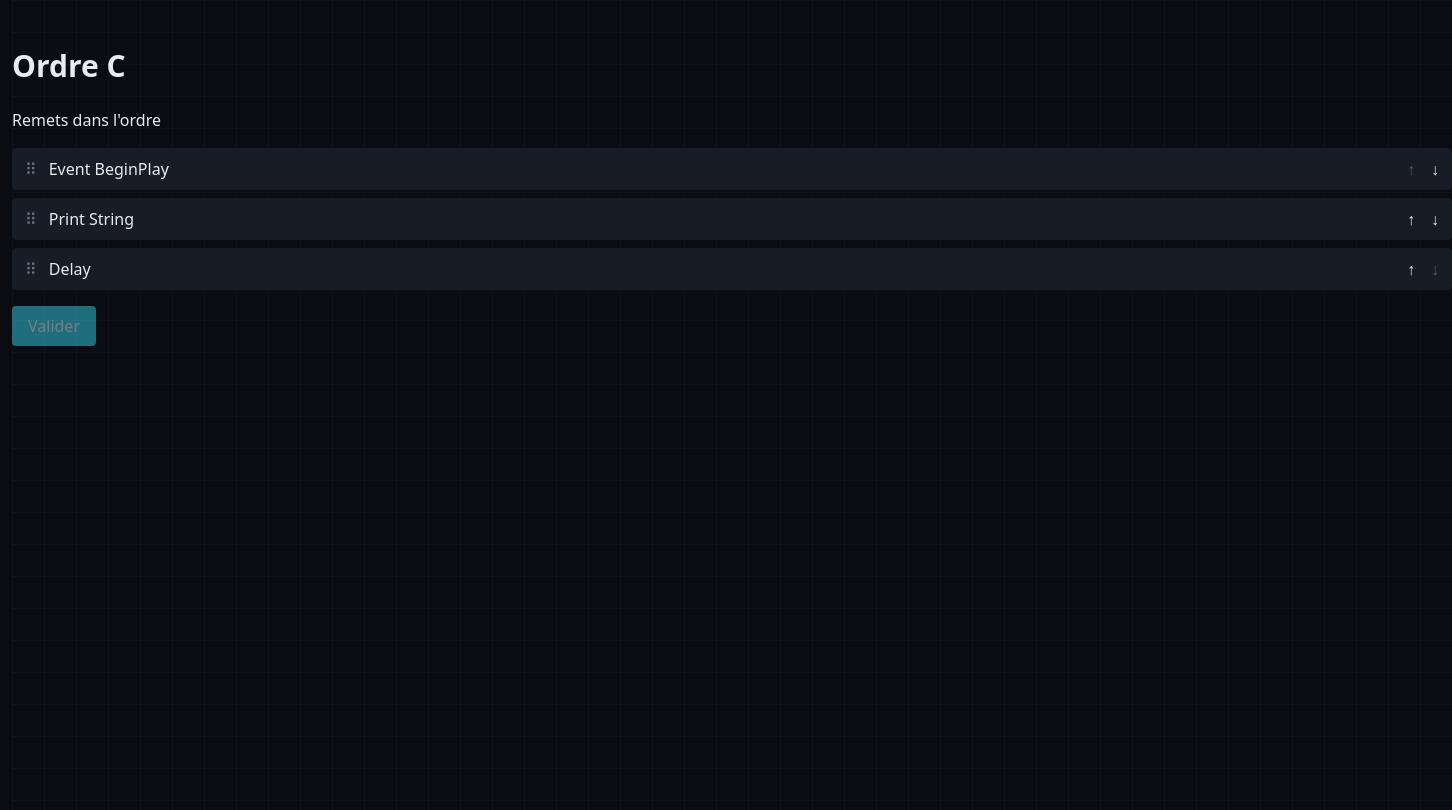
Test: ExerciseWorkspace › type C : réordonner puis envoyer produit le bon corps
Click the button named "Descendre Event BeginPlay" at (1435, 169), box [1427, 157, 1443, 181]
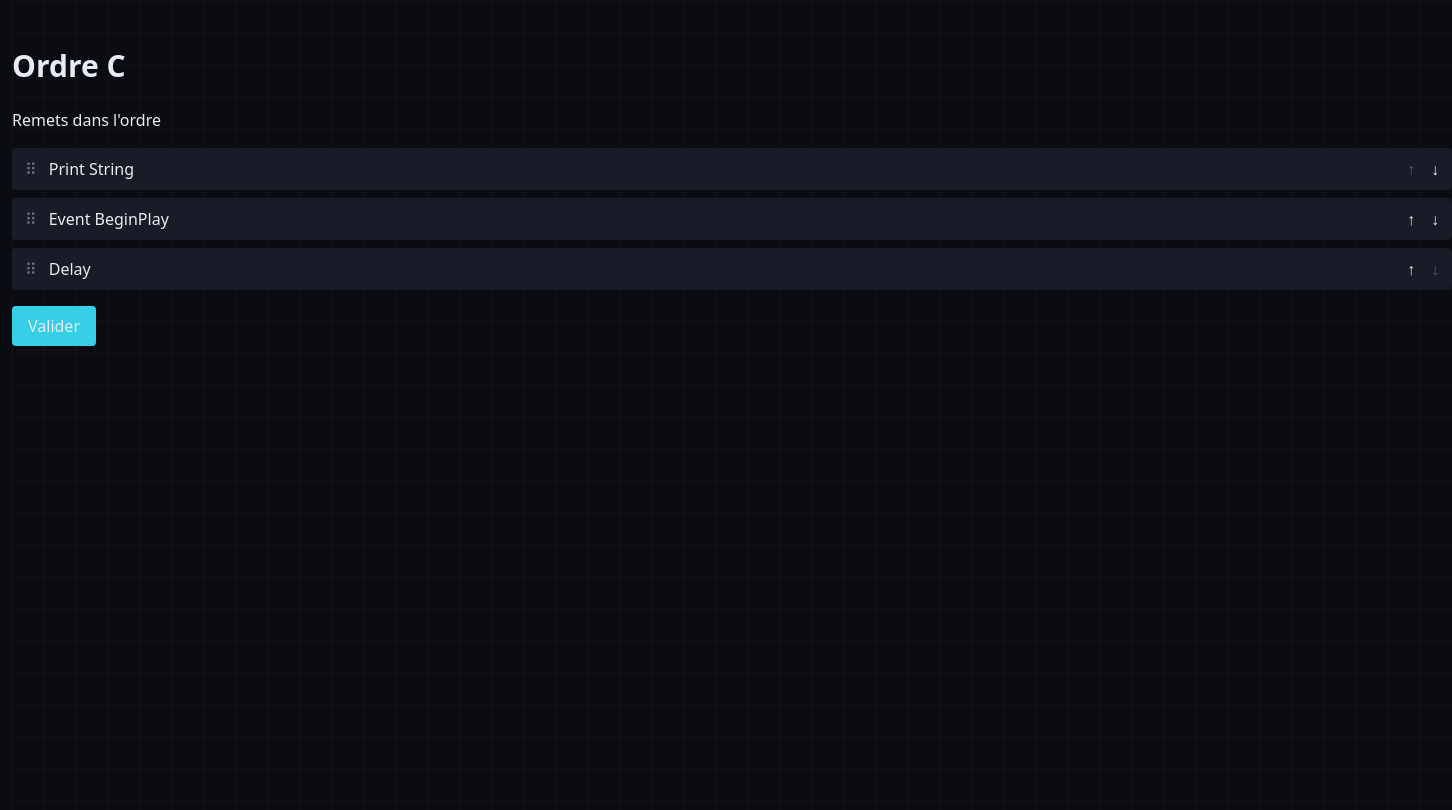
Click the button "Valider" at (54, 326), box [12, 306, 96, 346]
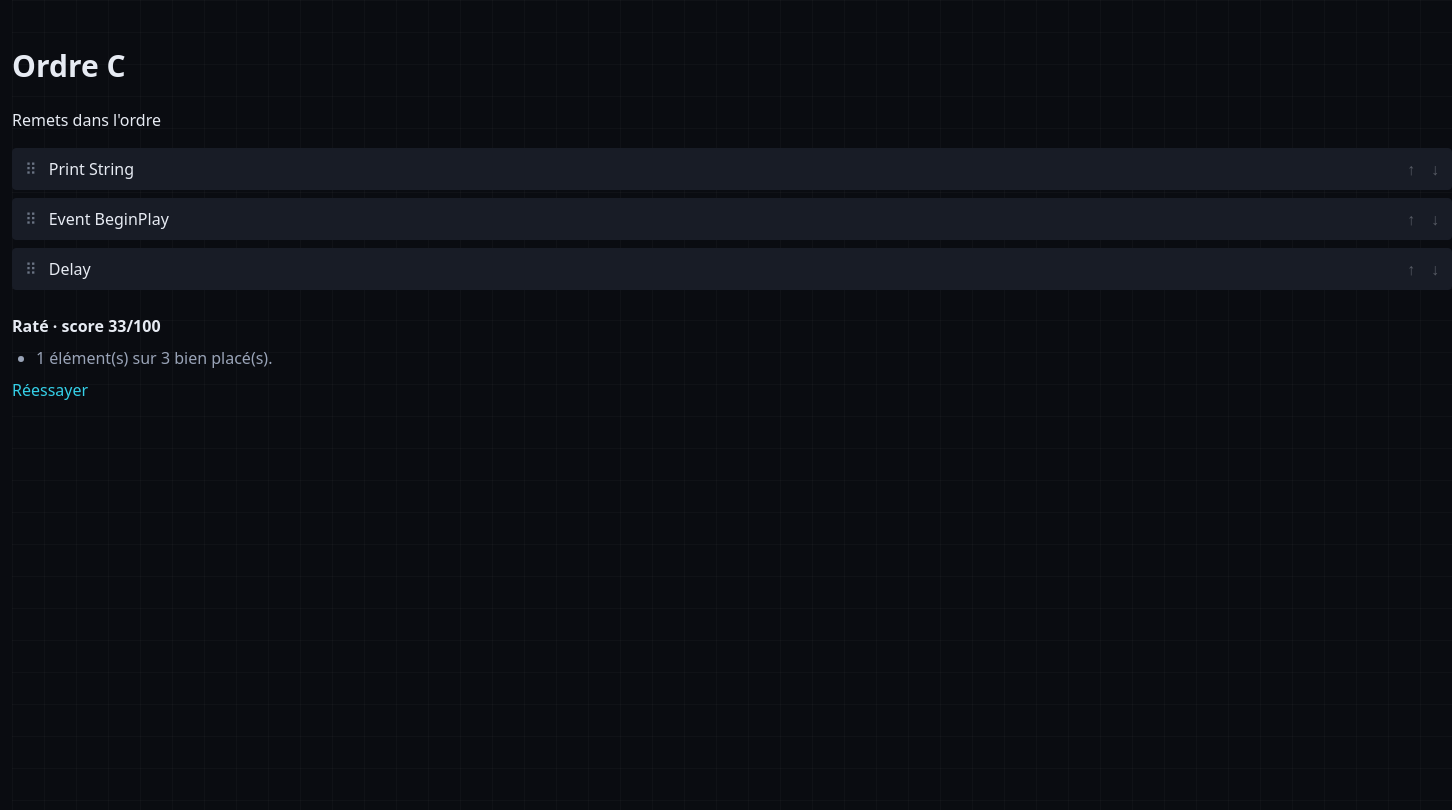
Result: the text "Raté · score 33/100" is shown at [12, 315, 160, 337]
